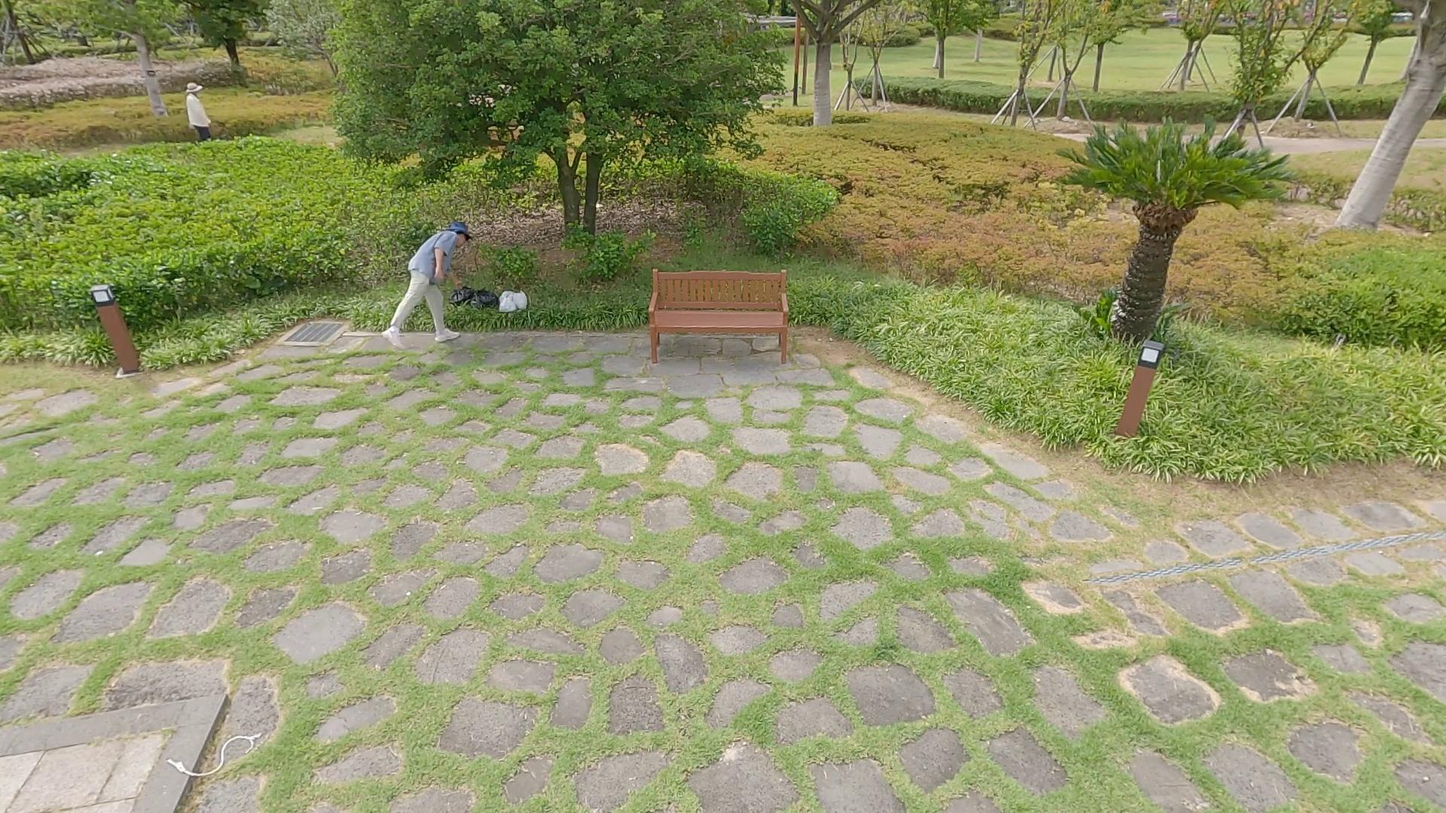person: (382, 217, 471, 343), (181, 79, 219, 141)
trash: (493, 289, 528, 319), (441, 279, 471, 311), (468, 286, 502, 314)
